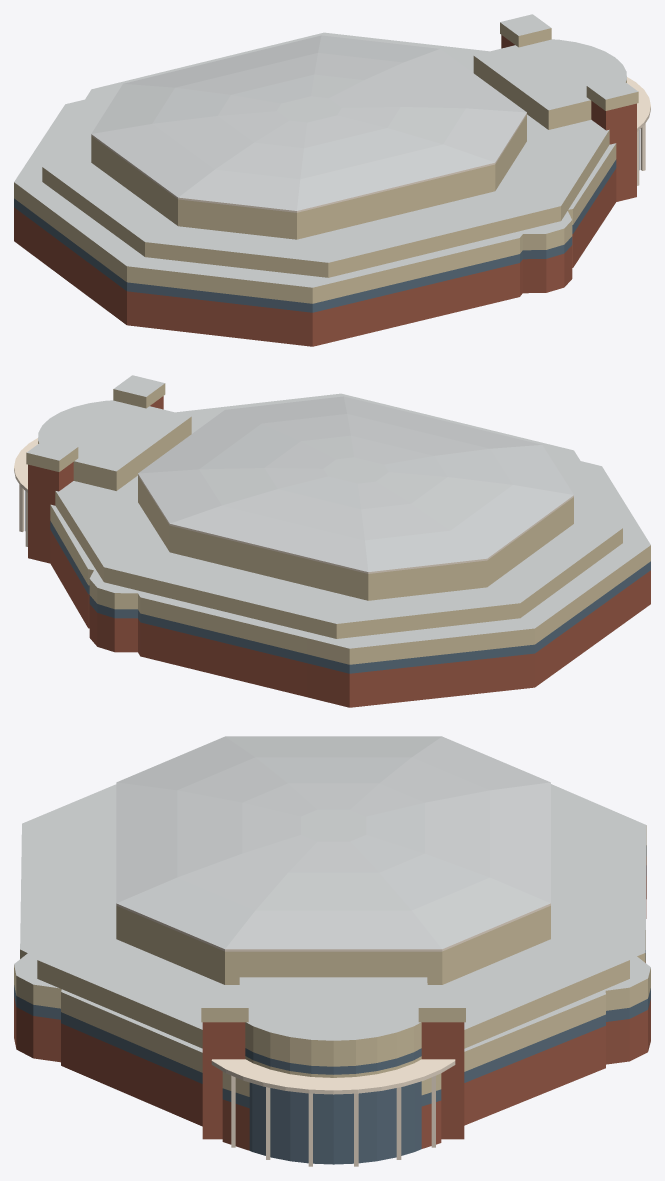
File: cola-colonial-life-arena.glb
3 views of the same model, one above another, from view 1: azimuth 30°, elevation 25°; view 2: azimuth 150°, elevation 25°; view 3: azimuth 270°, elevation 25° (orthographic). The views are drawn at different scales.
Parts seen in each view (by area): view 1: Colonial Life Arena; view 2: Colonial Life Arena; view 3: Colonial Life Arena.
Boxes of the visible parts, x1,y1,x2,y2 form: Colonial Life Arena: (14, 14, 650, 346); Colonial Life Arena: (14, 375, 650, 707); Colonial Life Arena: (14, 736, 650, 1166).
Bounding box in the file's own units: 165 × 32.55 × 129.
